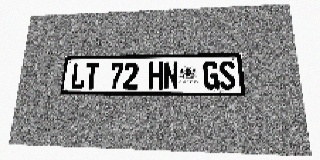2: (123, 62, 139, 89)
7: (109, 62, 124, 89)
G: (203, 61, 220, 90)
H: (148, 62, 163, 89)
L: (70, 63, 86, 89)
N: (163, 62, 178, 89)
S: (219, 61, 236, 90)
T: (84, 63, 100, 89)
